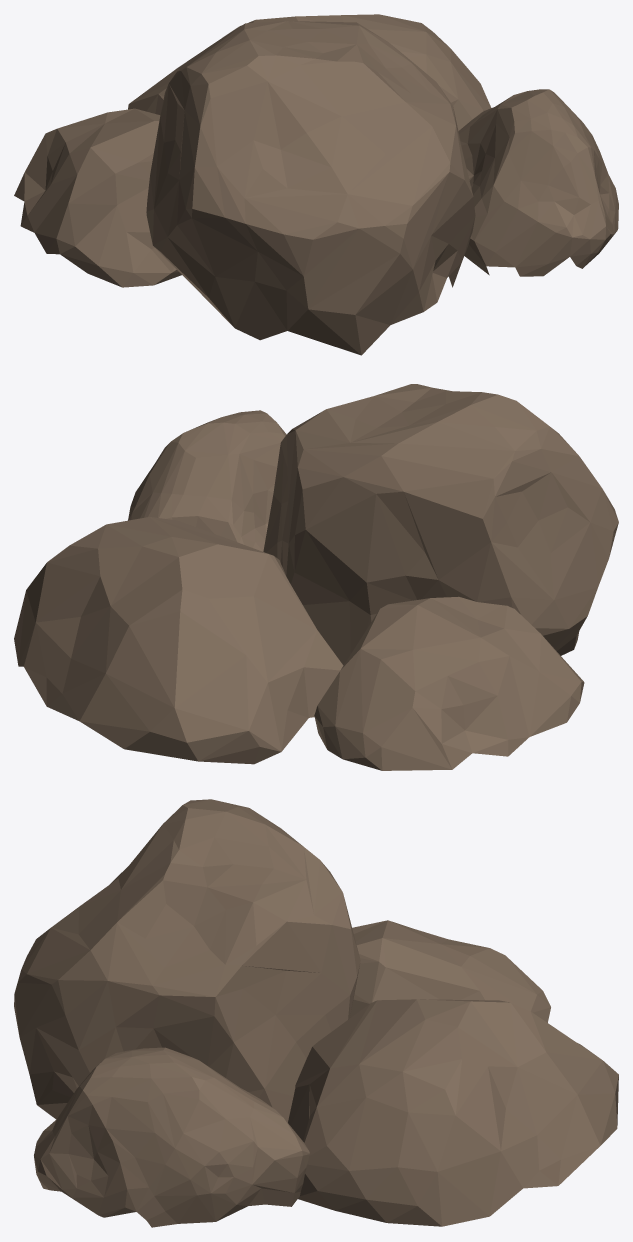
Rendered from rock2.fbx.
The picture shows the model from 3 angles, top to bottom: view 1: azimuth 30°, elevation 25°; view 2: azimuth 150°, elevation 25°; view 3: azimuth 270°, elevation 25°; orthographic projection. The views are drawn at different scales.
Visible parts, largest first — view 1: rock 2.005; view 2: rock 2.005; view 3: rock 2.005.
Part boxes in pixels (bbox=[...]): rock 2.005: bbox=[14, 14, 618, 355]; rock 2.005: bbox=[14, 384, 618, 770]; rock 2.005: bbox=[14, 799, 618, 1227].
Size of the model in its own units: 494 by 259 by 506.
